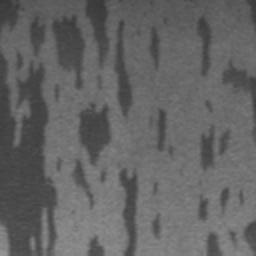Red iron sheet: (0, 0, 160, 256), (196, 15, 256, 124), (207, 221, 256, 256), (198, 186, 244, 220), (200, 124, 230, 170), (156, 109, 173, 154), (150, 28, 160, 70), (88, 237, 105, 256), (244, 0, 256, 23), (205, 101, 214, 111)
